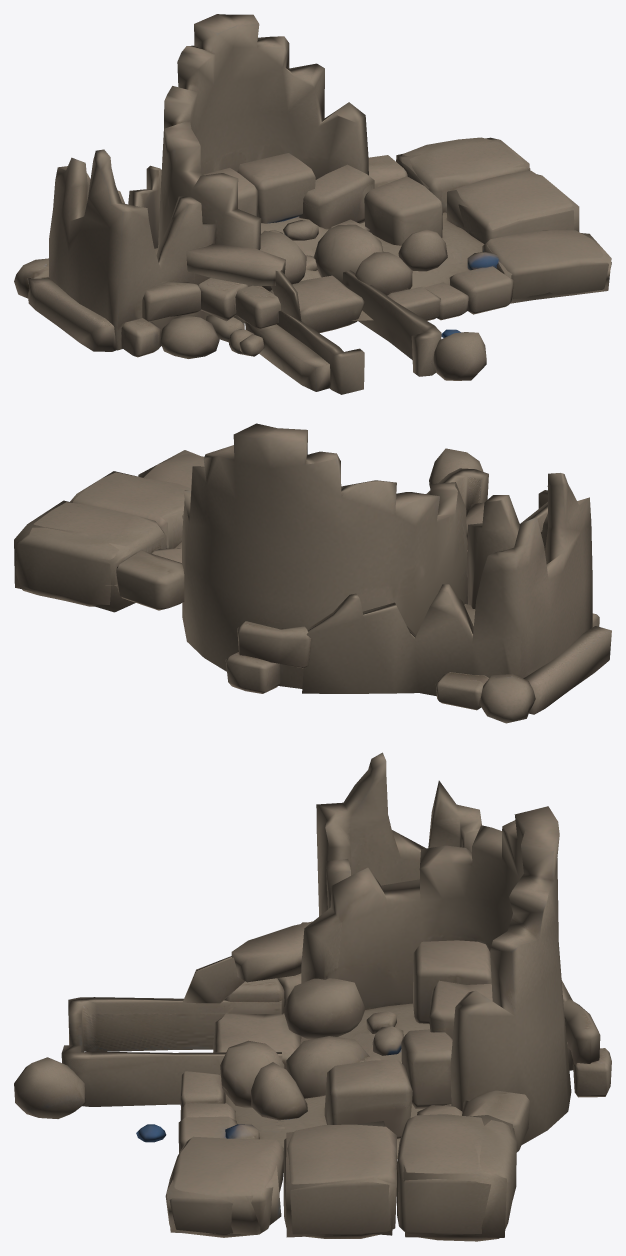
The model's file is meshy-c-d4b.glb.
The picture shows the model from 3 angles, top to bottom: view 1: azimuth 30°, elevation 25°; view 2: azimuth 150°, elevation 25°; view 3: azimuth 270°, elevation 25°; orthographic projection. The views are drawn at different scales.
Size of the model in its own units: 1 by 0.4568 by 0.8963.
1 material, 1 textured.
